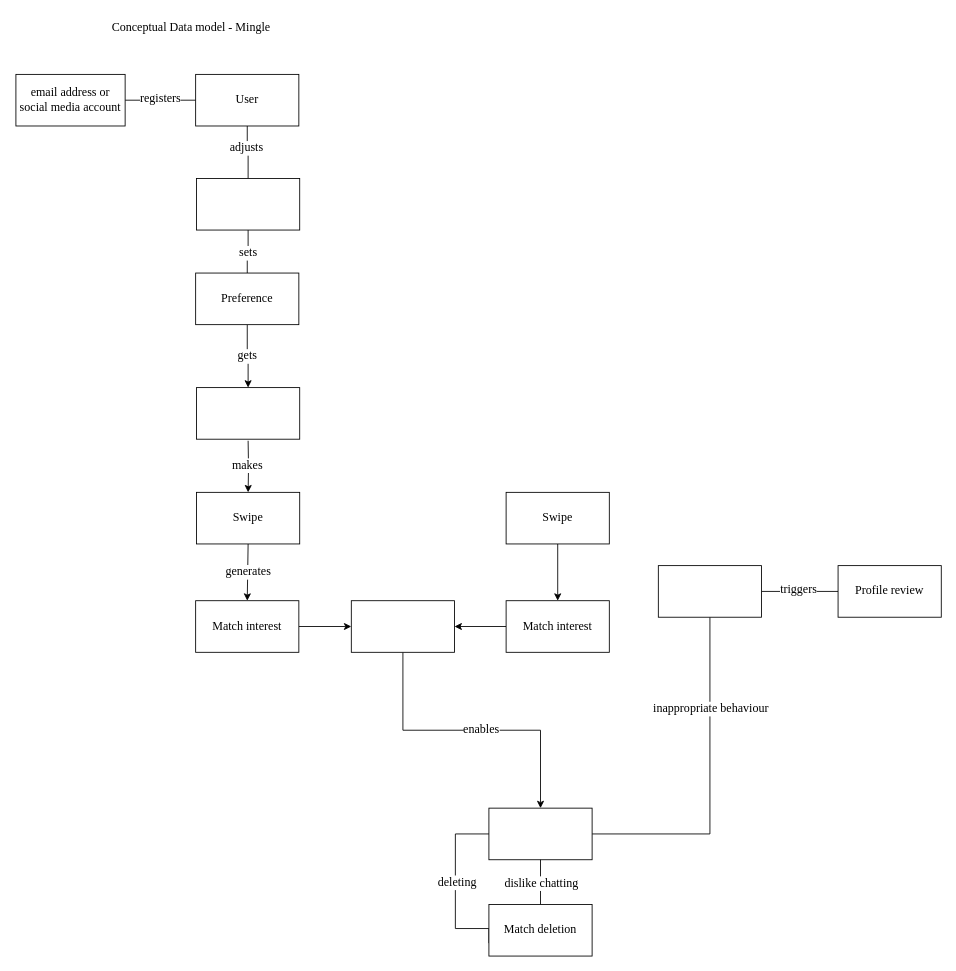
Some shapes in this 956 by 971 pixel diagram are drawn without their labels. The centre of each missing label's shape, as x and y in pixels:
Match: point (402, 626)
Message: point (540, 833)
Profile: point (248, 204)
Report: point (709, 591)
Suggestion: point (248, 413)
